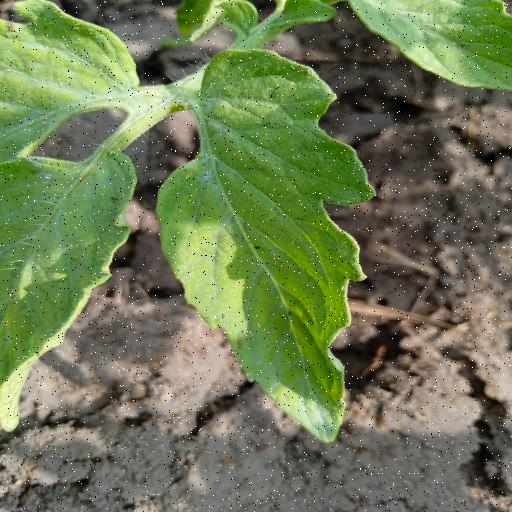Tomato_Mildiou: (151, 41, 376, 450)
